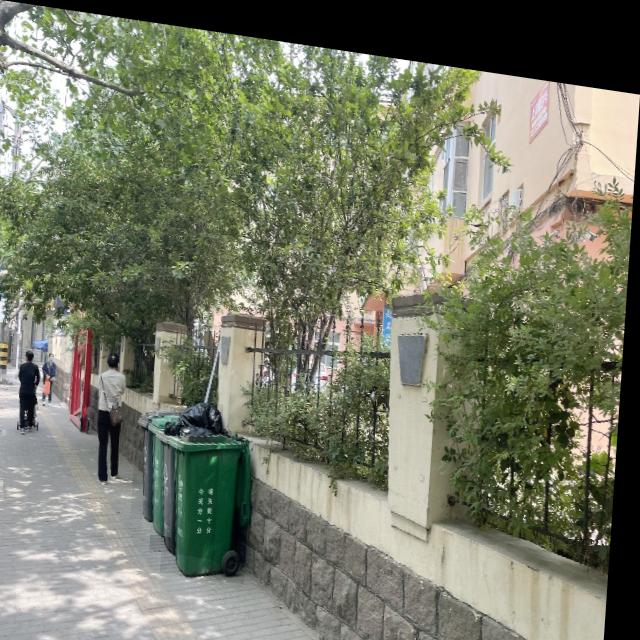garbage_bin: (137, 401, 185, 518), (149, 405, 185, 531)
overflow: (167, 416, 260, 576), (157, 390, 229, 552)
